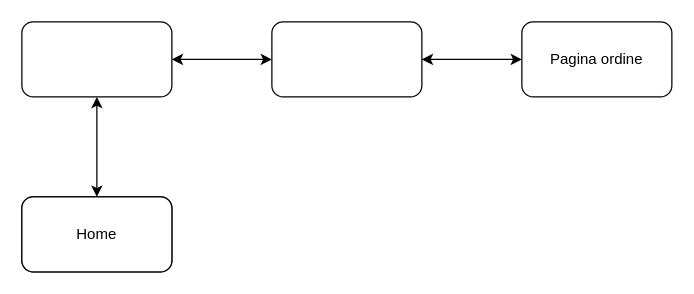
Image size: 694x294. Some labels were removed from this diagram. Each missing label, with the centre of its shape:
Dashboard: (96,59)
Pagina Lista ordini: (346,59)
